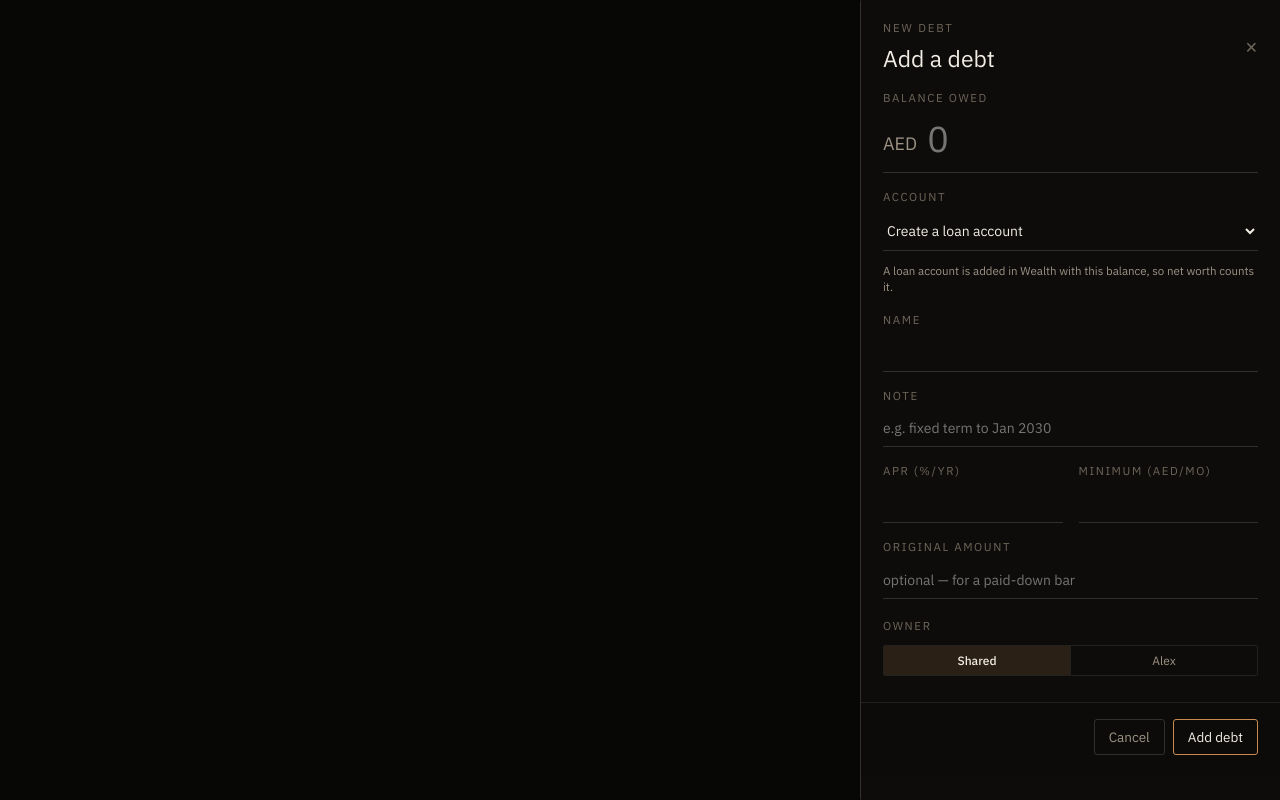
Test case: DebtEditor: where the balance lives › removes the account it made when the debt cannot be saved
Type "40000" into the number field named "Balance owed" at x=1093, y=138, box [927,115,1258,162]
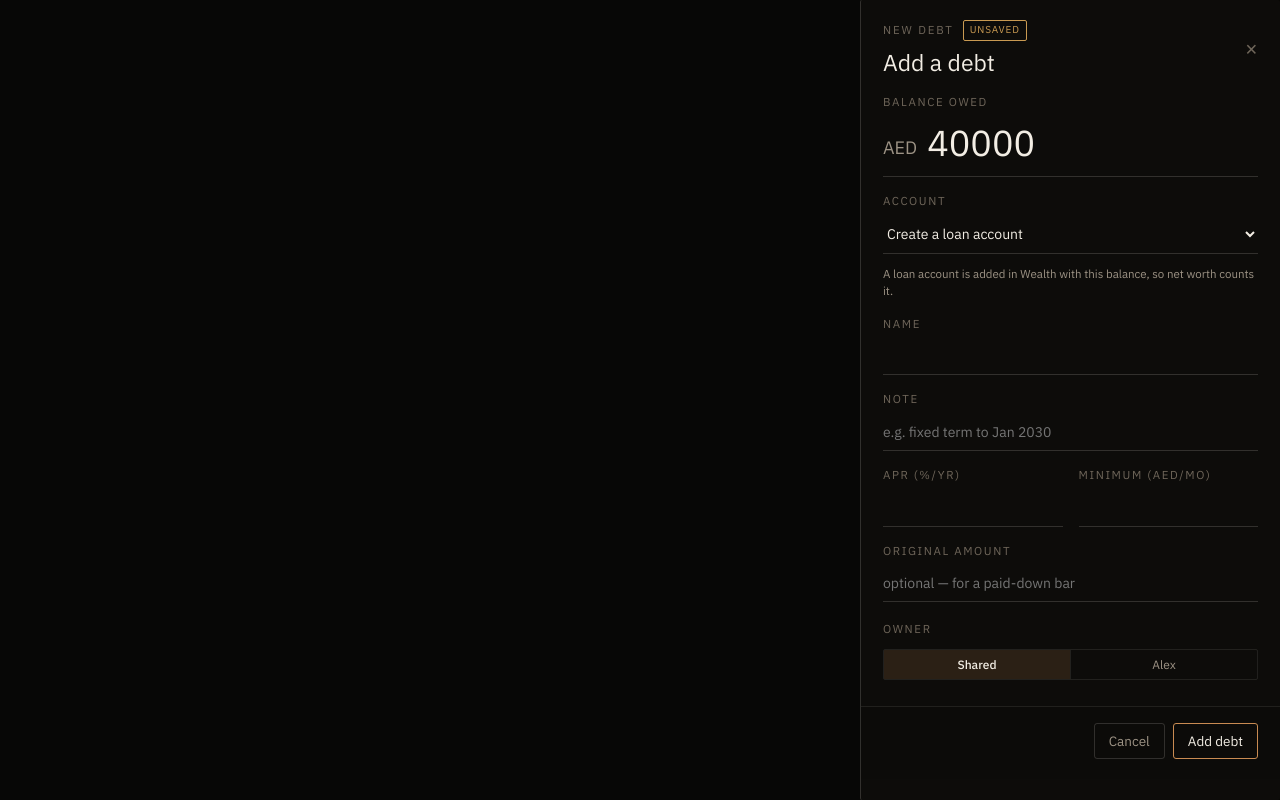
Type "Car loan" into the field labelled "Name" at x=1070, y=357, box [883,338,1258,376]
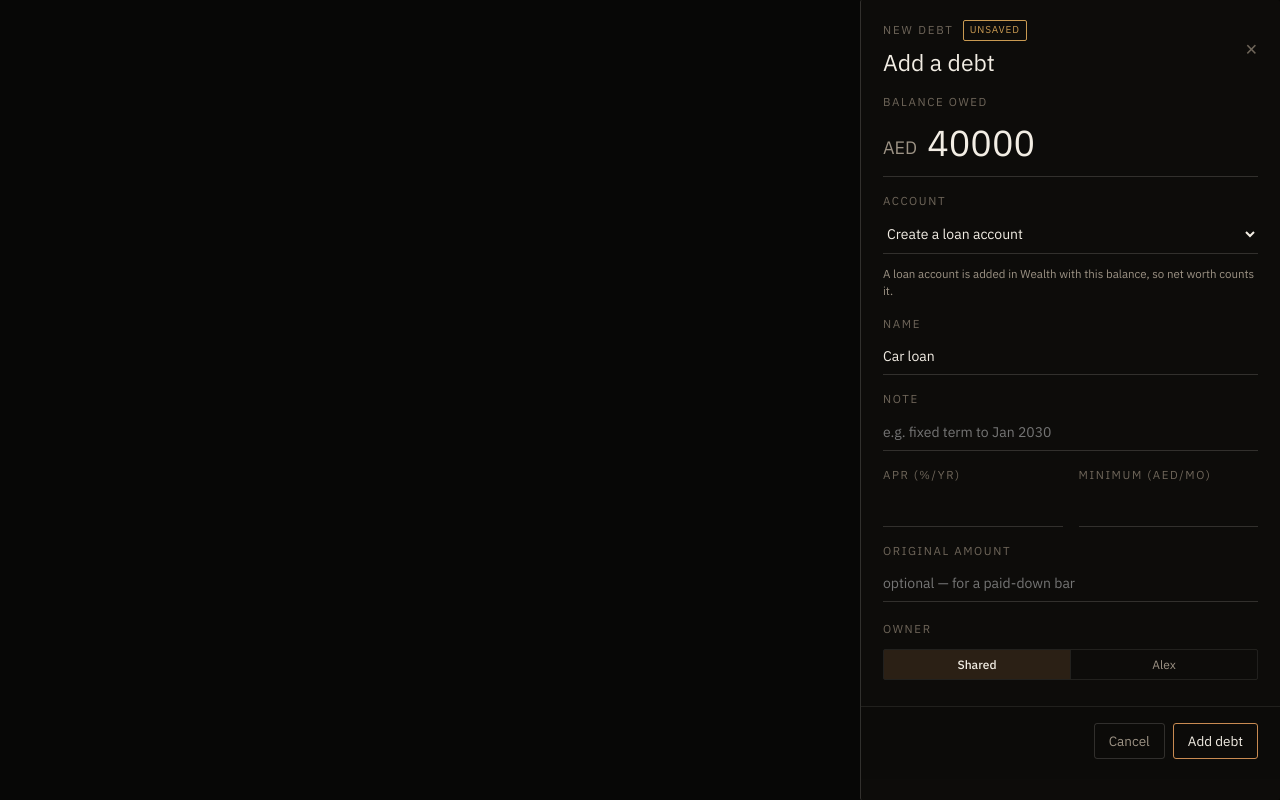
Type "3.5" into the number field labelled "APR (%/yr)" at x=973, y=508, box [883,490,1062,527]
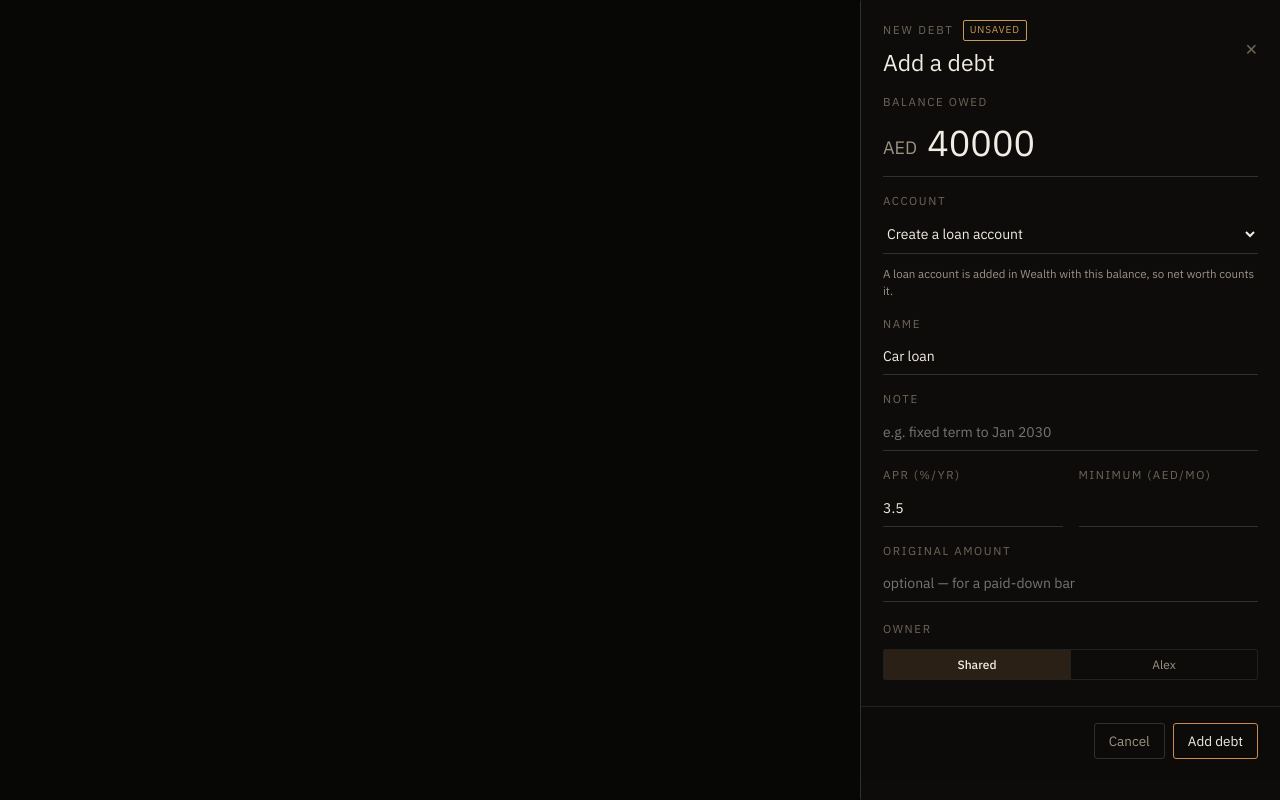
Type "2193" into the number field labelled "Minimum (AED/mo)" at x=1168, y=508, box [1078,490,1258,527]
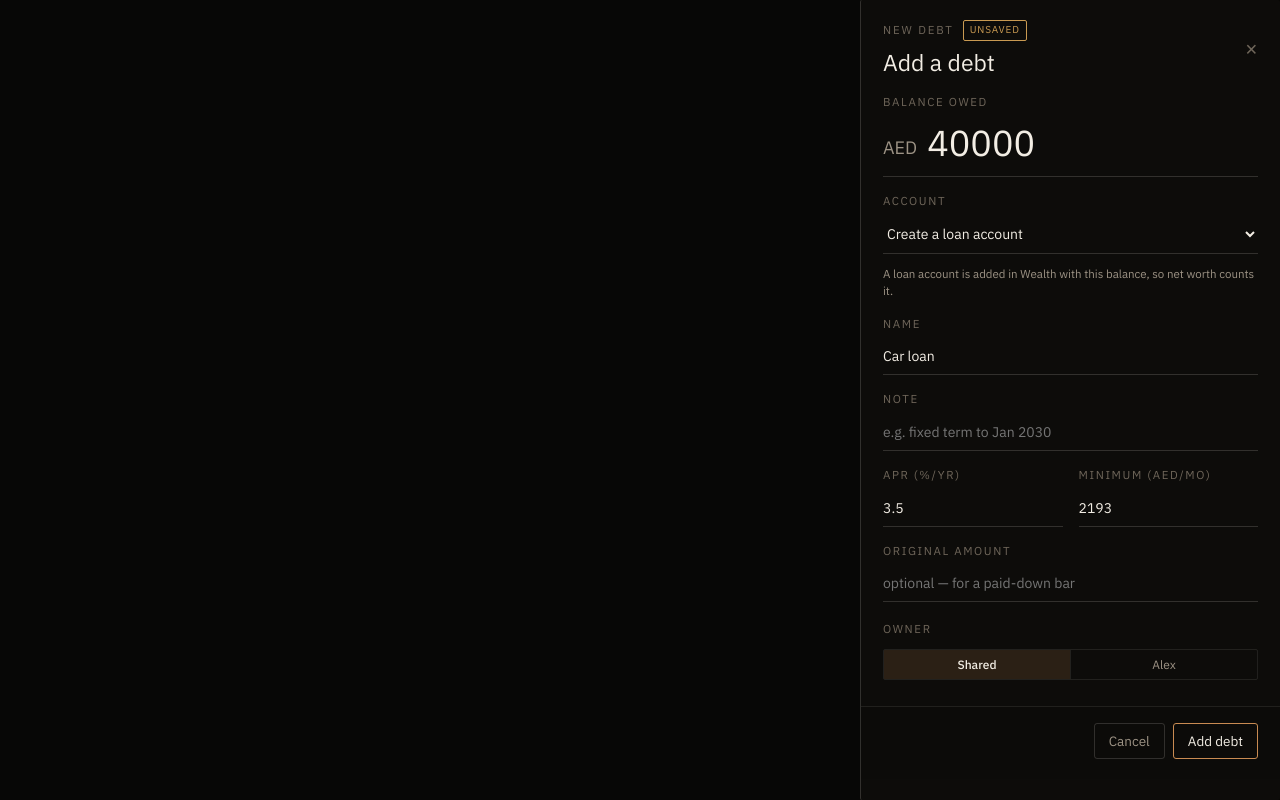
Click the button "Add debt" at x=1215, y=741, box [1173,723,1258,759]
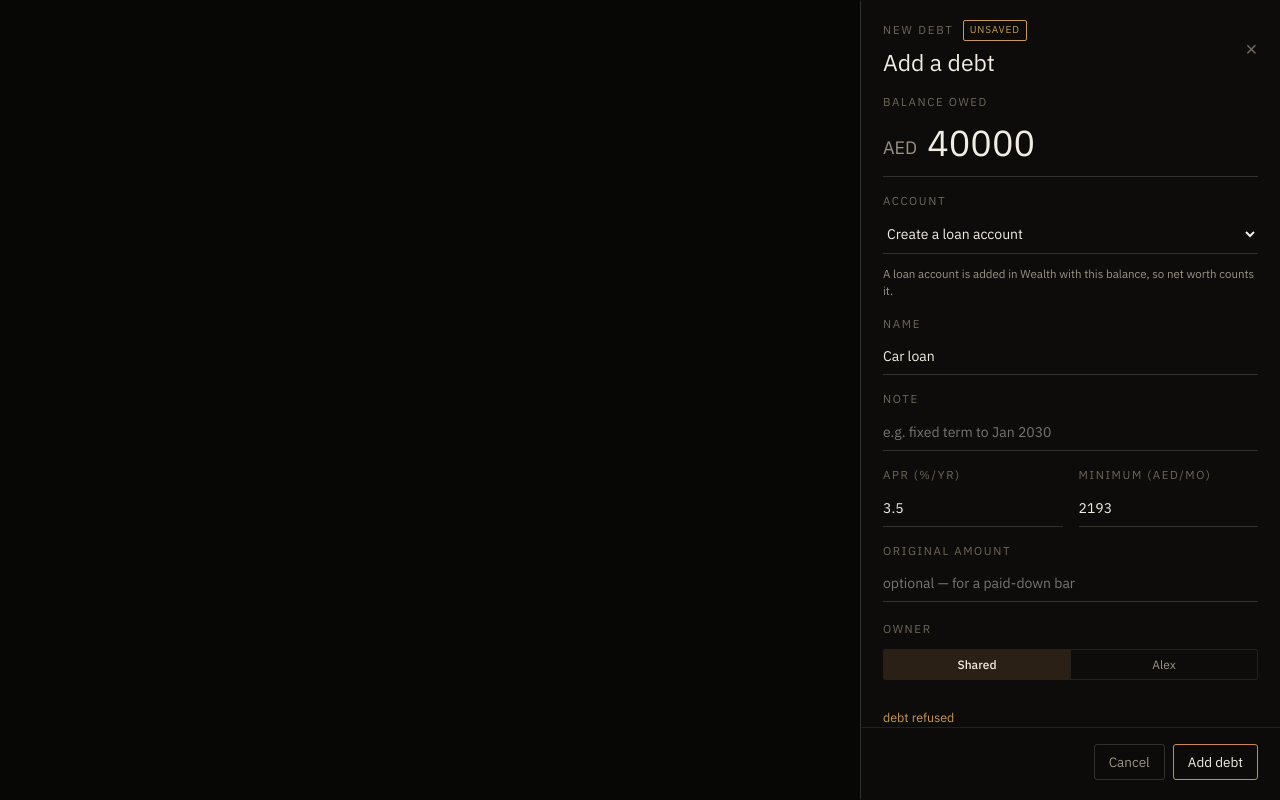
expect the message reads "debt refused": met, box [883,709,954,725]
